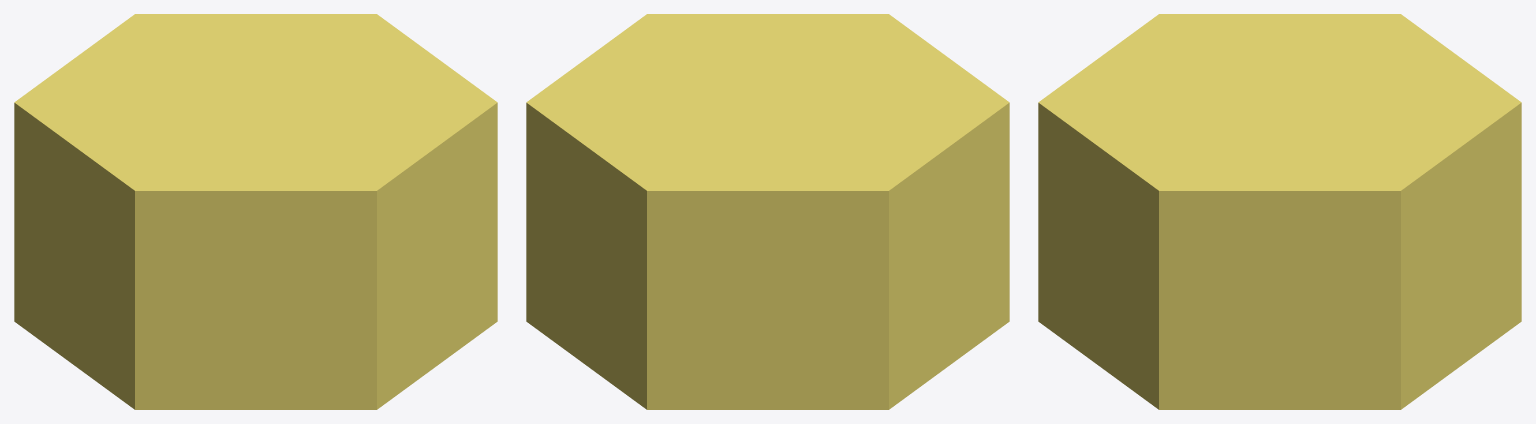
File: SandTile.fbx
3 renders of one model, left to right at view 1: azimuth 30°, elevation 25°; view 2: azimuth 150°, elevation 25°; view 3: azimuth 270°, elevation 25°, orthographic.
Parts seen in each view (by area): view 1: Cylinder; view 2: Cylinder; view 3: Cylinder.
Boxes of the visible parts, x1,y1,x2,y2 form: Cylinder: (14, 14, 497, 409); Cylinder: (526, 14, 1009, 409); Cylinder: (1038, 14, 1521, 409).
Size of the model in its own units: 173 by 100 by 200.
